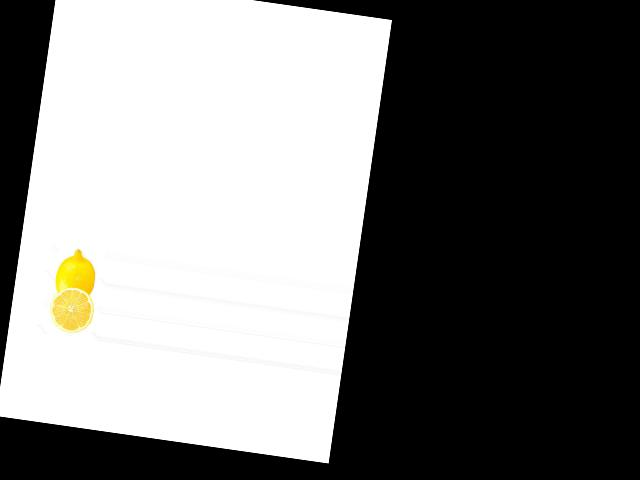lemon: (50, 246, 104, 304)
